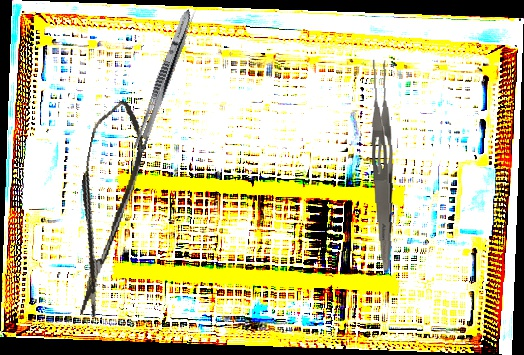Dressing Forceps: (131, 6, 196, 156), (366, 57, 402, 272)
Micro Scissor: (55, 96, 152, 321)
Pusher: (141, 6, 200, 139)
